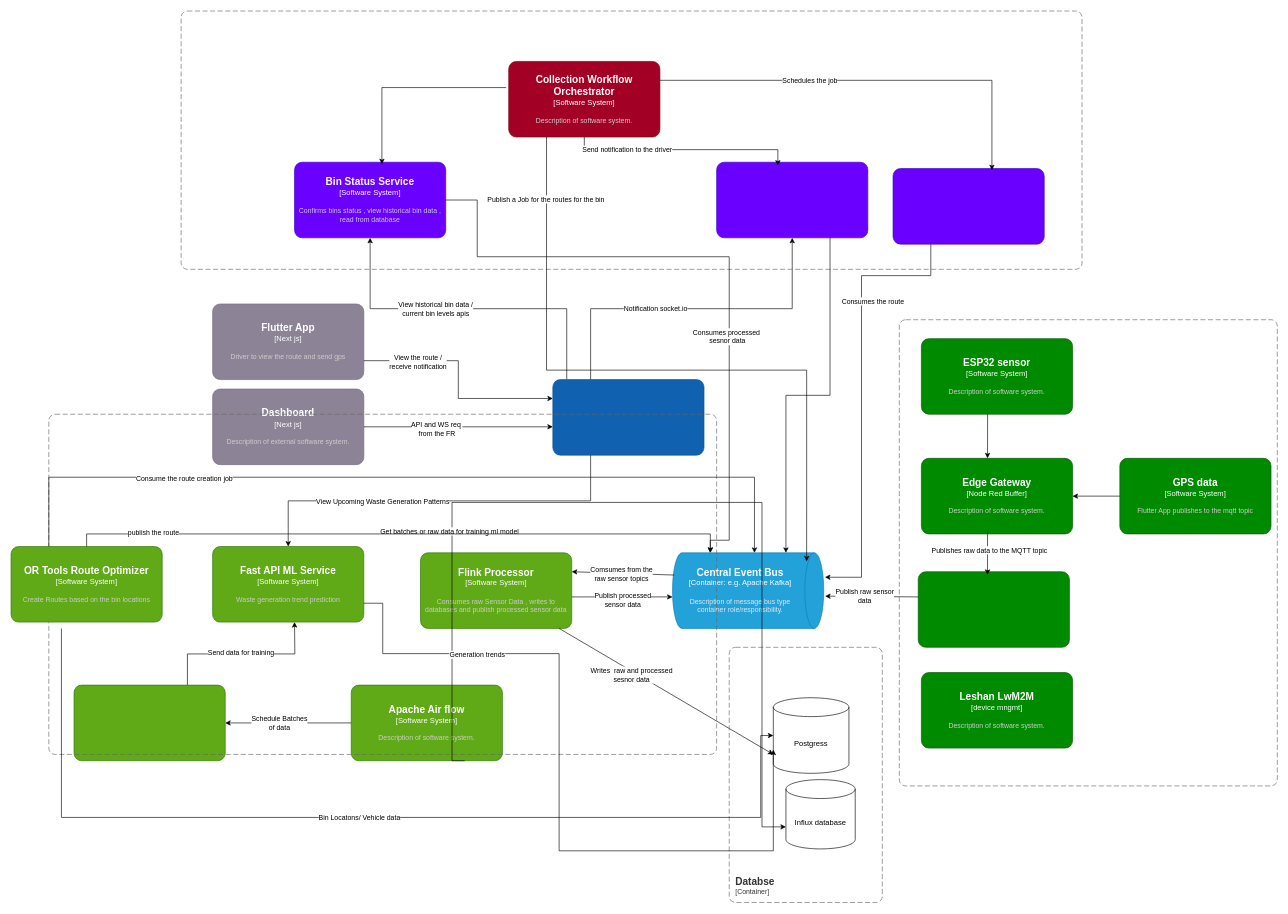
Image size: 1288x914. Some labels were removed from this diagram. Each missing label, with the box of its shape:
Apache Spark [Software System] Process large batches of data: (73, 684, 225, 761)
Api Gateway [Kong API gateway] Used as the common interface for all the clients: (552, 379, 704, 455)
Data Analysis [Software System]: (48, 414, 717, 754)
Edge layer [F1 — edge & device layer]: (899, 319, 1277, 786)
EMQX broker [MQTT topic ] Description of software system.: (918, 571, 1069, 647)
Notification Service [Software System] Description of software system.: (716, 162, 868, 238)
Scheduler Service [Software System] Scehdule Routine jobs , Handles urgent jobs: (892, 168, 1044, 244)
System [Software System]: (180, 10, 1082, 269)
